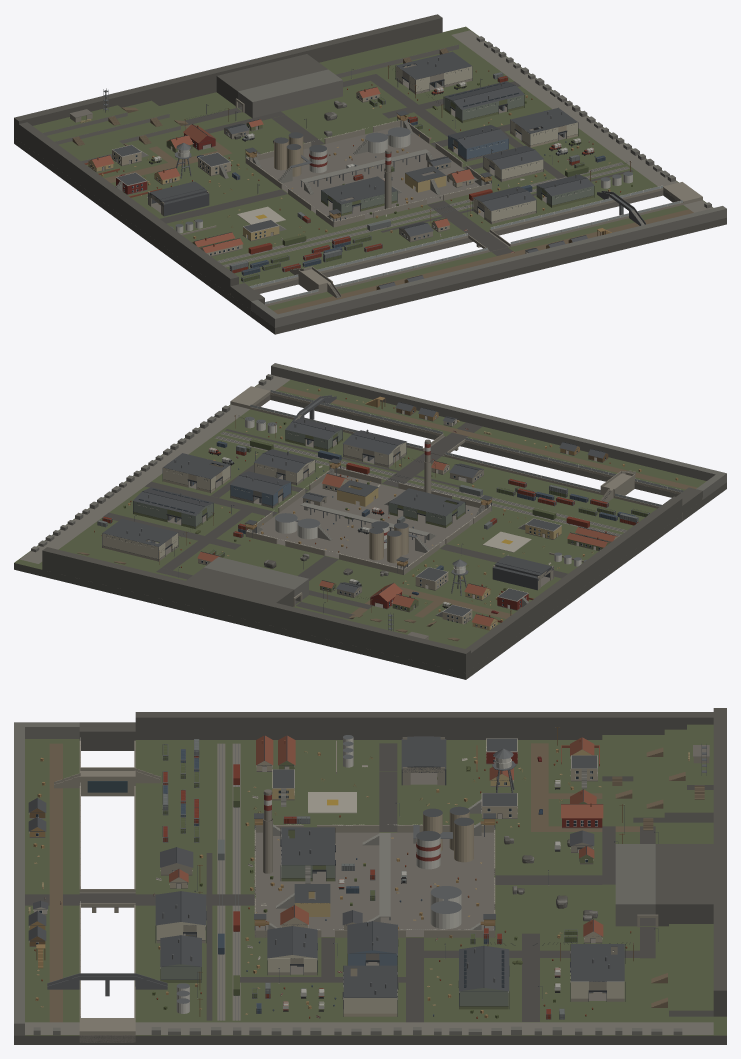
File: facility.glb
3 renders of one model, top to bottom at view 1: azimuth 30°, elevation 25°; view 2: azimuth 150°, elevation 25°; view 3: azimuth 270°, elevation 25°, orthographic. The views are drawn at different scales.
Visible parts, largest first — view 1: facility_structure, facility_detail; view 2: facility_structure, facility_detail; view 3: facility_structure, facility_detail.
Part boxes in pixels (box(x1,y1,x2,y2)): facility_structure: box(14, 14, 726, 334); facility_detail: box(88, 57, 682, 304); facility_structure: box(14, 363, 726, 679); facility_detail: box(102, 390, 683, 630); facility_structure: box(14, 708, 726, 1044); facility_detail: box(29, 727, 657, 1017).
Size of what is drawn, in the model's own units: 320 by 44.6 by 320.
